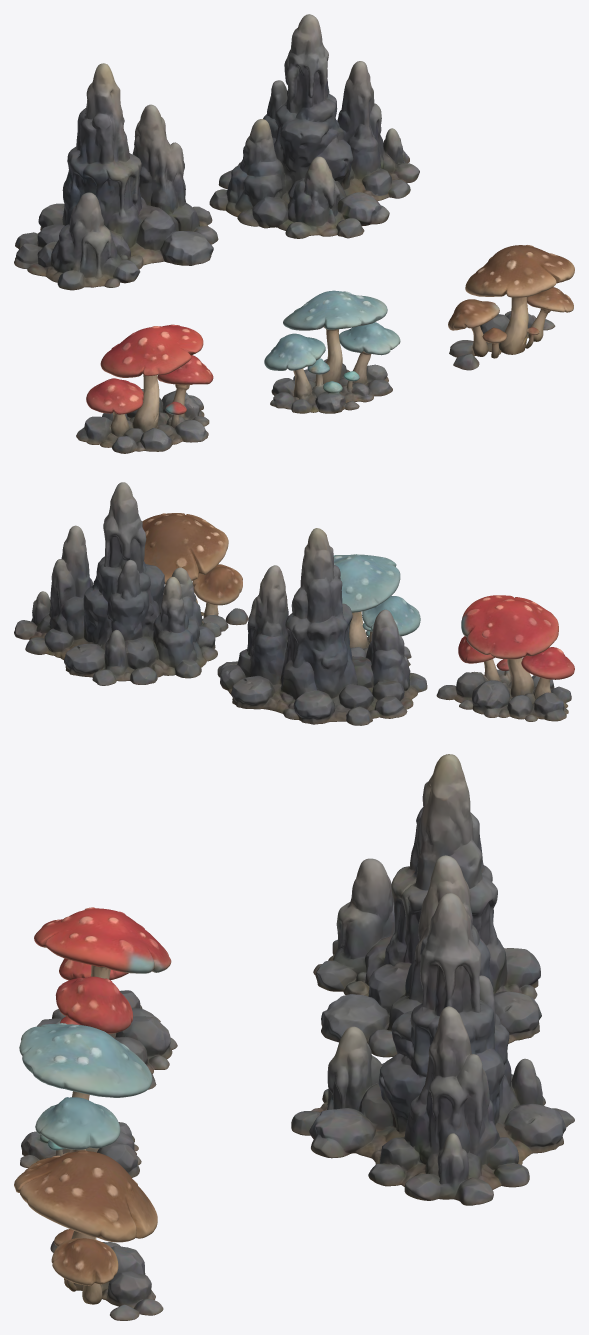
The model's file is setas_roca.glb.
The picture shows the model from 3 angles, top to bottom: view 1: azimuth 30°, elevation 25°; view 2: azimuth 150°, elevation 25°; view 3: azimuth 270°, elevation 25°; orthographic projection. The views are drawn at different scales.
Parts seen in each view (by area): view 1: tripo_node_0e9dd4a3-782b-4da6-aa57-13c0cb1a2822; view 2: tripo_node_0e9dd4a3-782b-4da6-aa57-13c0cb1a2822; view 3: tripo_node_0e9dd4a3-782b-4da6-aa57-13c0cb1a2822.
Boxes of the visible parts, box(x1,y1,x2,y2) form: tripo_node_0e9dd4a3-782b-4da6-aa57-13c0cb1a2822: box(14, 14, 574, 453); tripo_node_0e9dd4a3-782b-4da6-aa57-13c0cb1a2822: box(14, 482, 574, 725); tripo_node_0e9dd4a3-782b-4da6-aa57-13c0cb1a2822: box(14, 754, 574, 1320).
Size of the model in its own units: 1 by 0.5074 by 0.7441.
1 material, 1 textured.
